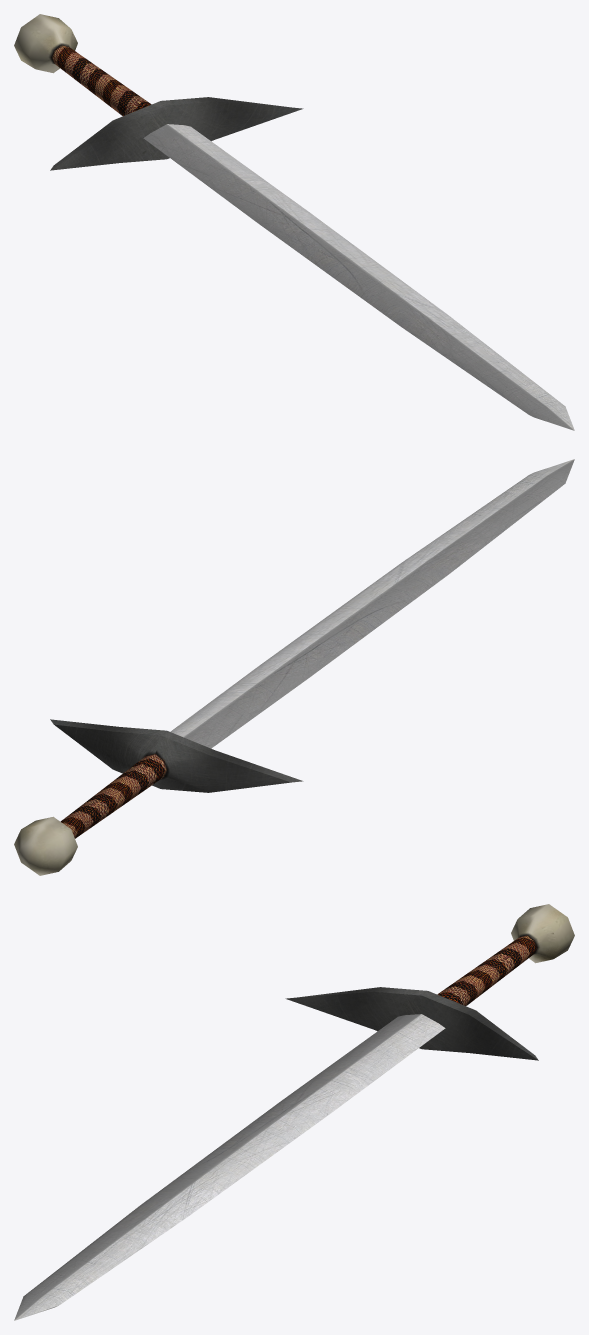
File: Swords-separated.obj
The picture shows the model from 3 angles, top to bottom: view 1: azimuth 30°, elevation 25°; view 2: azimuth 150°, elevation 25°; view 3: azimuth 330°, elevation 25°; orthographic projection.
Visible parts, largest first — view 1: Sword_03; view 2: Sword_03; view 3: Sword_03.
Part boxes in pixels (left/top/right/bottom): Sword_03: left=14, top=14, right=574, bottom=430; Sword_03: left=14, top=459, right=574, bottom=875; Sword_03: left=14, top=904, right=574, bottom=1320.
Bounding box in the file's own units: 1.83 × 0.3693 × 6.82.
Materials: 1 (1 with a texture image).
